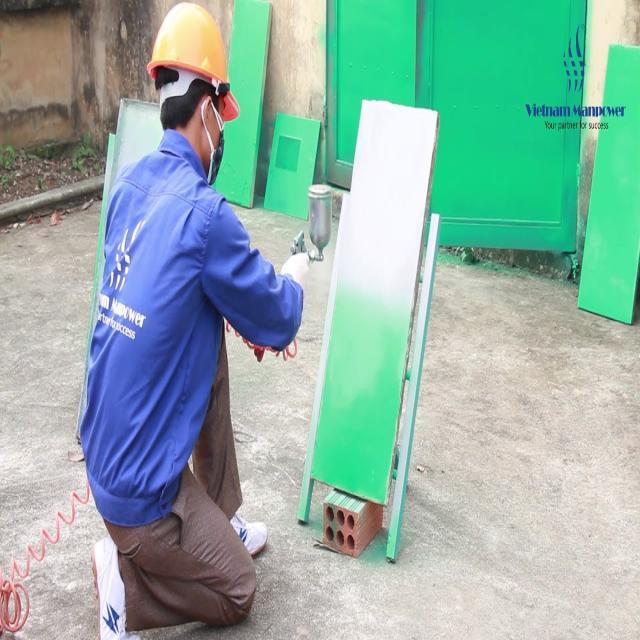safety_helmet: (144, 0, 241, 118)
